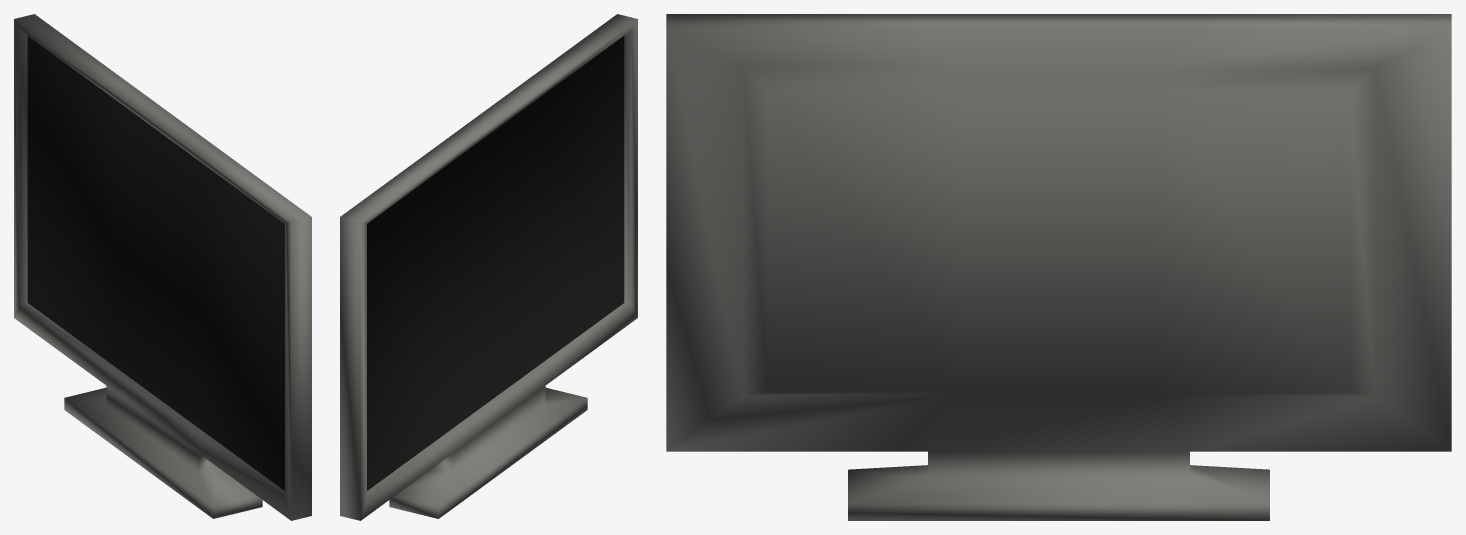
3 views of the same model, side by side, from view 1: azimuth 30°, elevation 25°; view 2: azimuth 150°, elevation 25°; view 3: azimuth 270°, elevation 25° (orthographic). The views are drawn at different scales.
Visible parts, largest first — view 1: Cube.8232; view 2: Cube.8232; view 3: Cube.8232.
Part boxes in pixels (bbox=[...]): Cube.8232: bbox=[14, 14, 311, 520]; Cube.8232: bbox=[340, 14, 637, 520]; Cube.8232: bbox=[666, 14, 1451, 520].
Bounding box in the file's own units: 28.68 × 190 × 280.
1 material, 1 textured.
